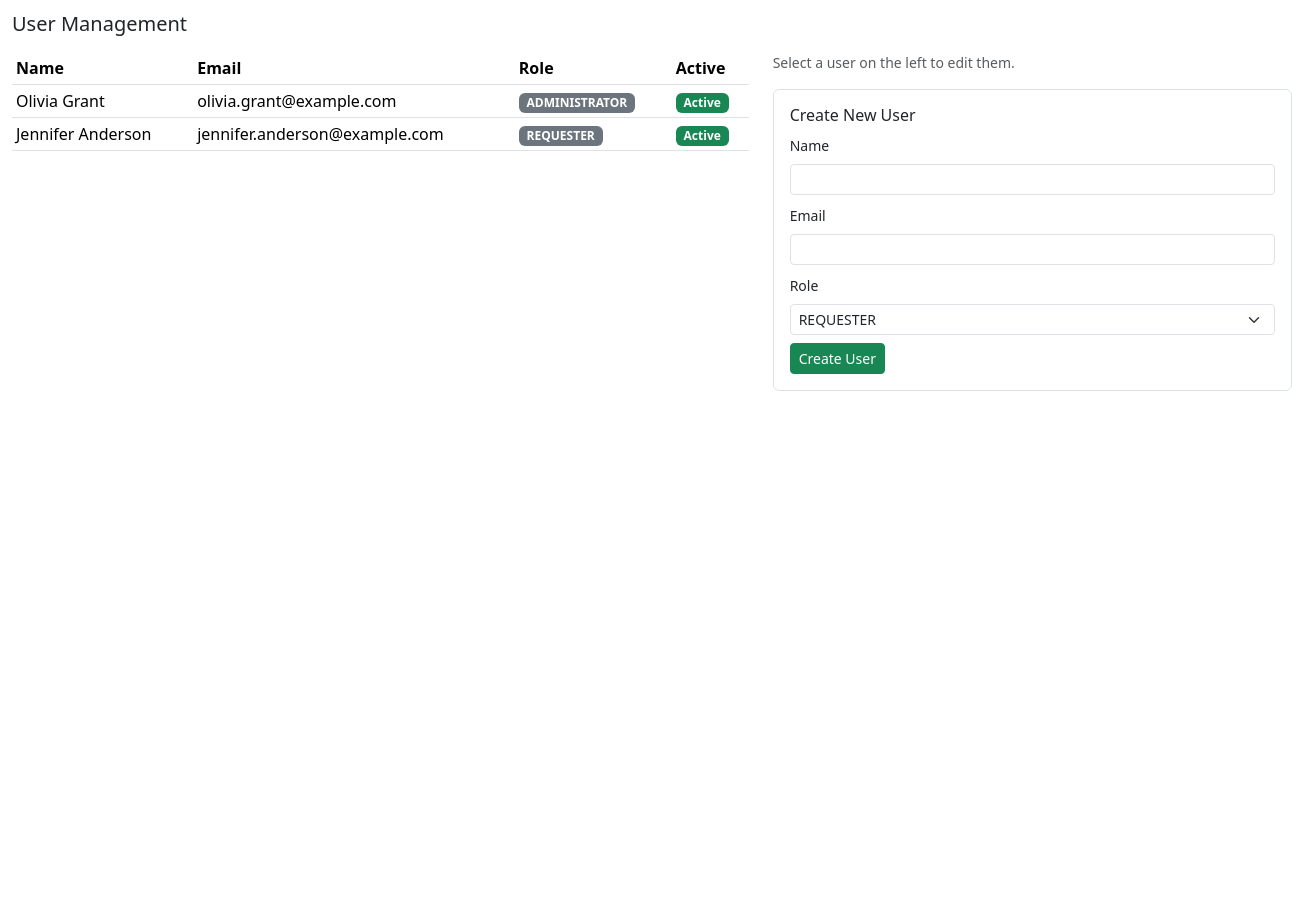
Test: AdminUsers › selecting a user and saving changes updates the list
Step 1. Click the row with test id "admin-users-row" that starts with "Jennifer Anderson" → (380, 134), box top-left (12, 118), bottom-right (749, 151)
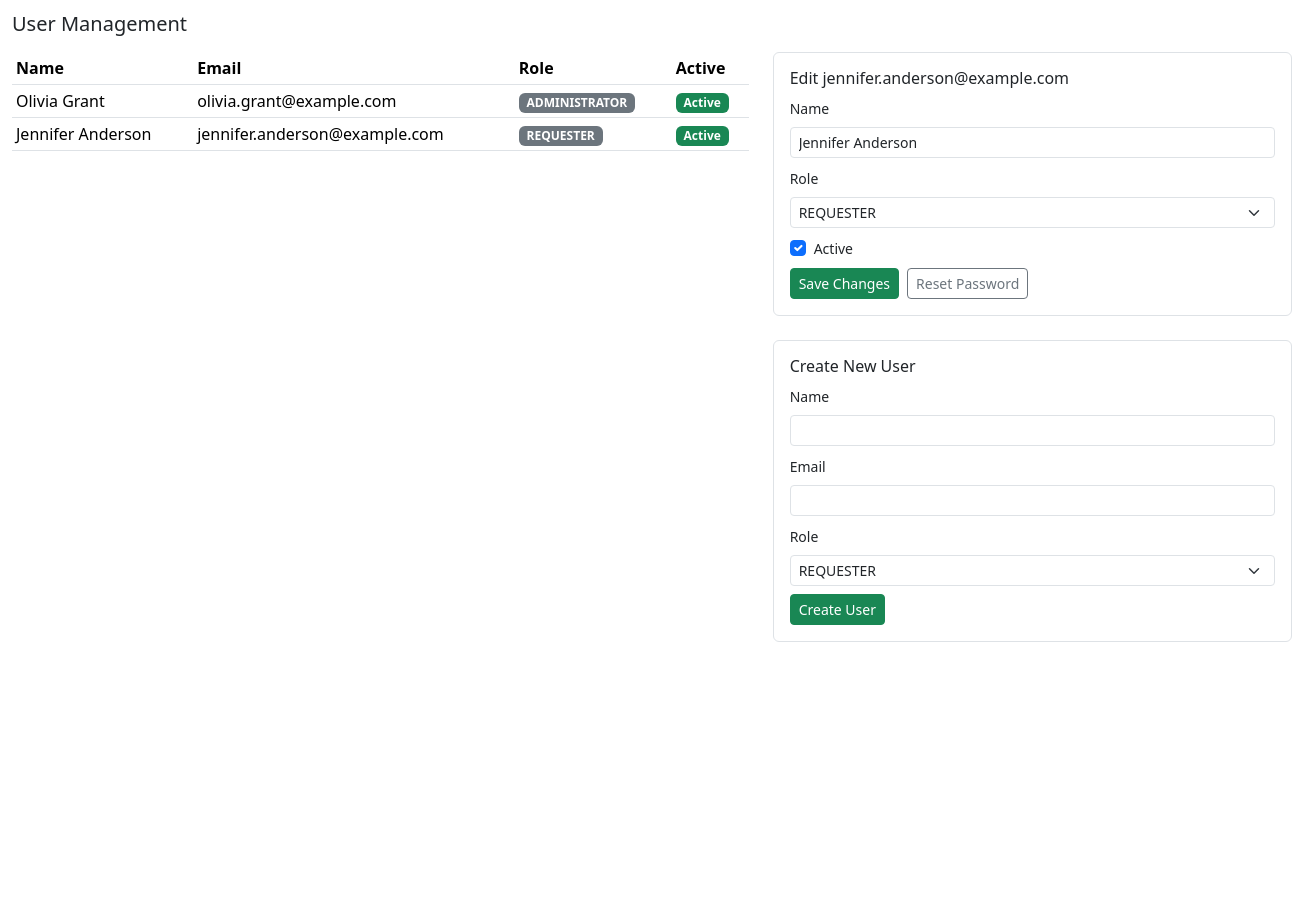
Check: the element with test id "admin-users-edit-panel" is shown, box top-left (773, 52), bottom-right (1291, 316)
Step 2. Replace the text in the field with test id "admin-edit-name" with "Jennifer A. Anderson" → (1032, 143), box top-left (790, 127), bottom-right (1275, 158)
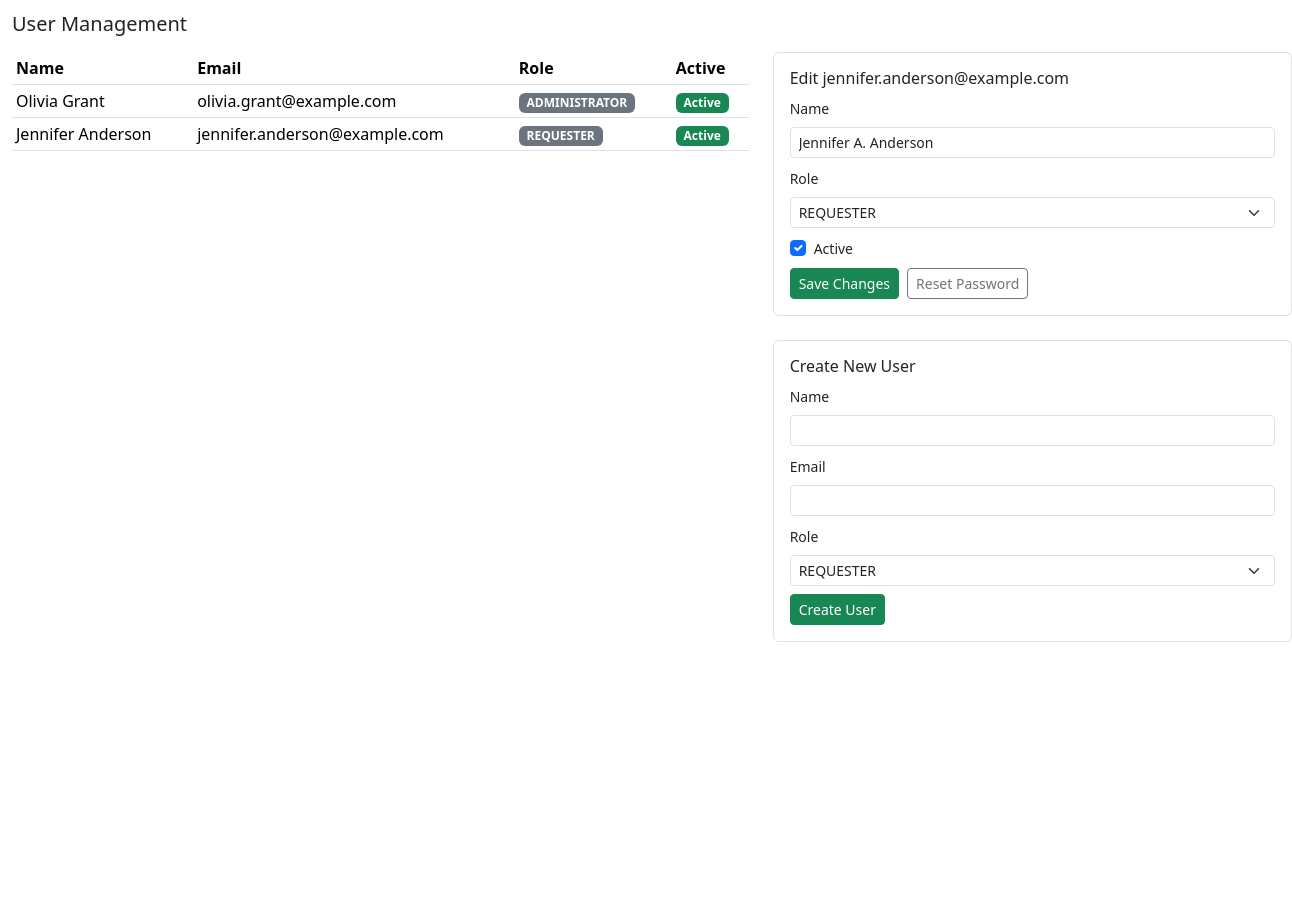
Step 3. Click the button with test id "admin-edit-save" → (844, 284), box top-left (790, 268), bottom-right (899, 299)
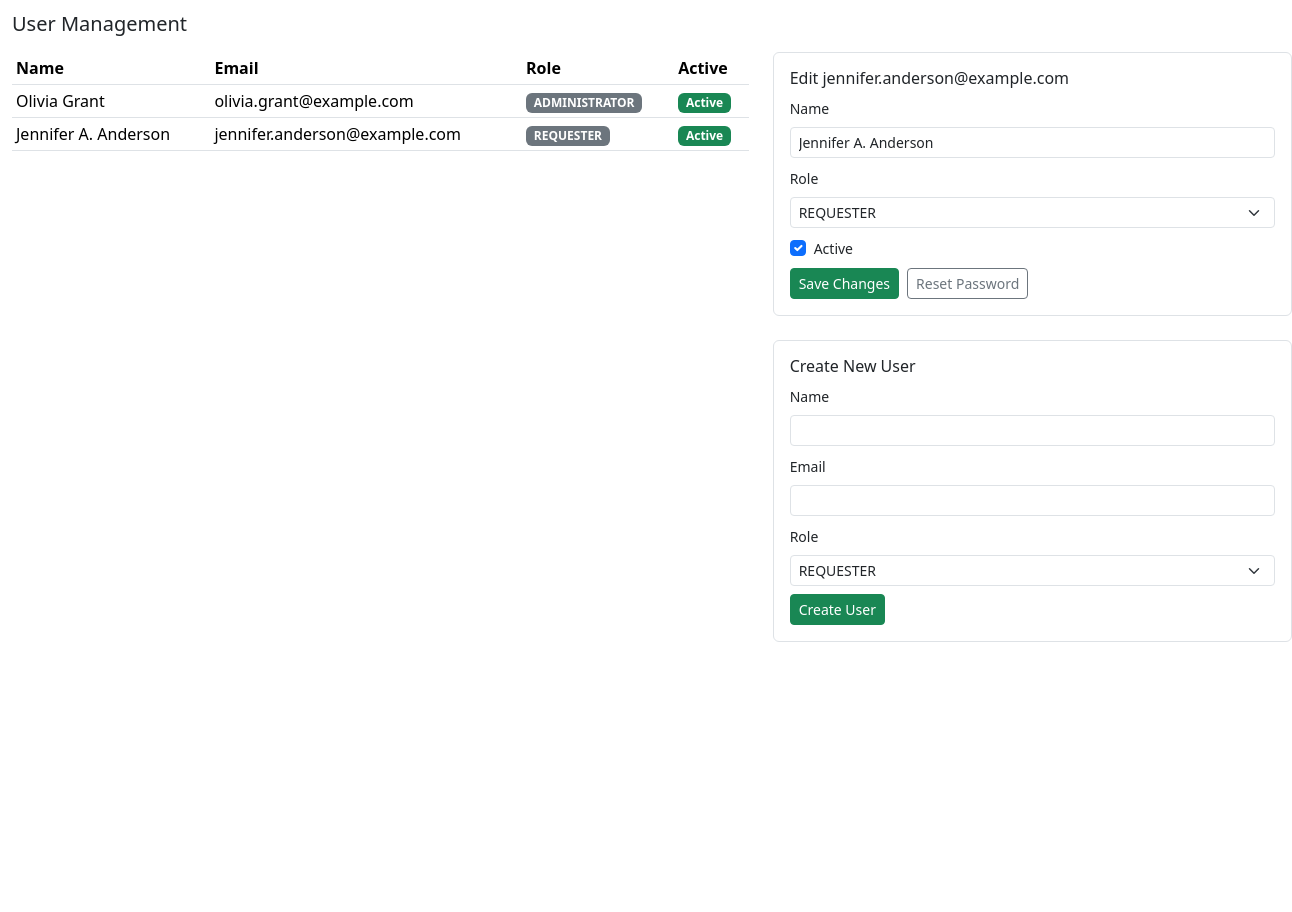
Check: the text "Jennifer A. Anderson" is shown, box top-left (12, 118), bottom-right (210, 151)
